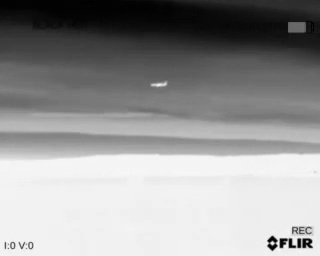AIRPLANE: (149, 78, 170, 90)
